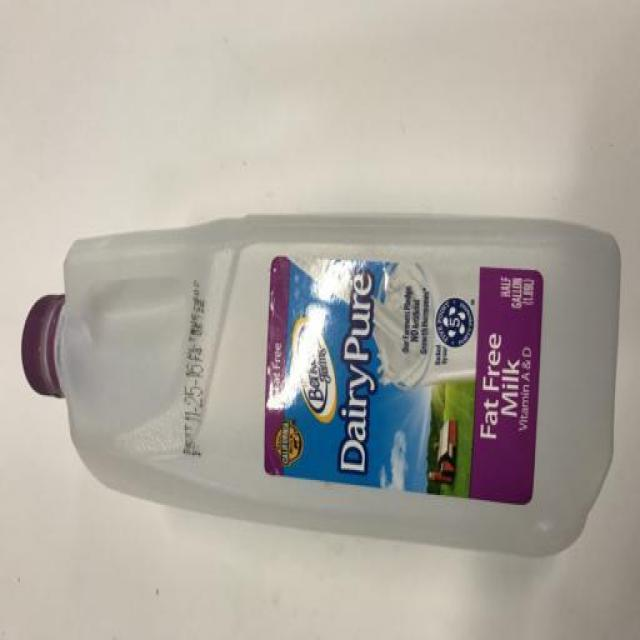plastic_bottle: (22, 209, 635, 566)
